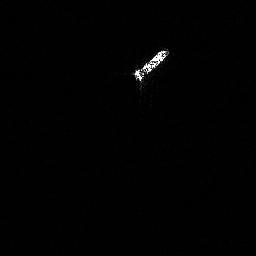ship: (134, 49, 168, 81)
